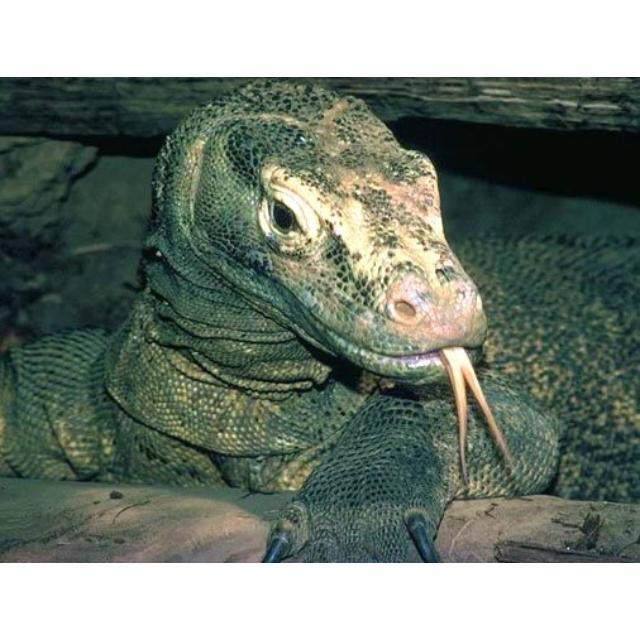KomodoDragon: (1, 77, 638, 561)
